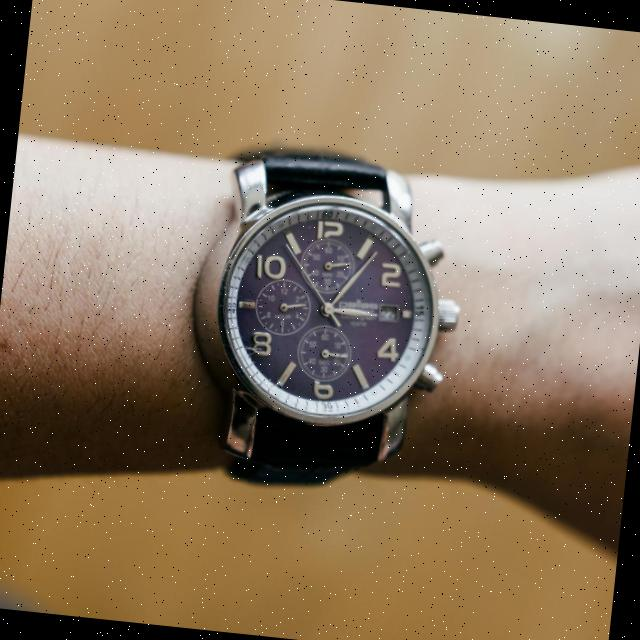Wrist watch: (195, 142, 478, 510)
